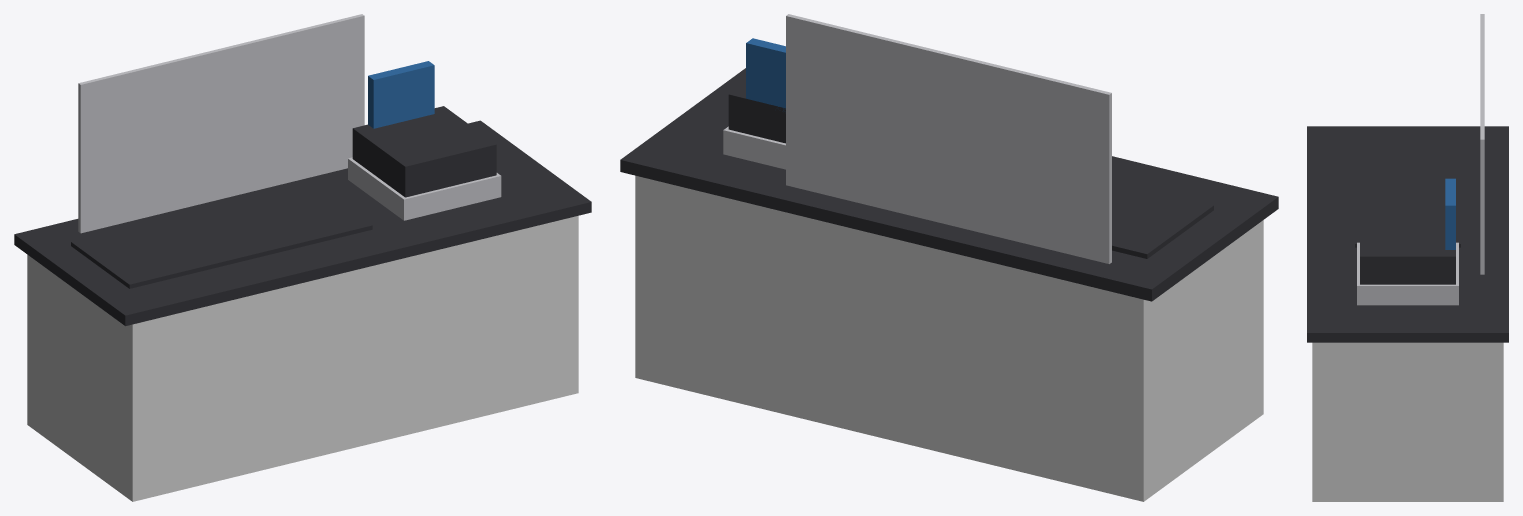
File: interior_quidland_checkout.glb
3 views of the same model, side by side, from view 1: azimuth 30°, elevation 25°; view 2: azimuth 150°, elevation 25°; view 3: azimuth 270°, elevation 25° (orthographic). The views are drawn at different scales.
Visible parts, largest first — view 1: interior_quidland_checkout; view 2: interior_quidland_checkout; view 3: interior_quidland_checkout.
Boxes of the visible parts, x1=… form: interior_quidland_checkout: x1=14, y1=14, x2=591, y2=501; interior_quidland_checkout: x1=620, y1=14, x2=1278, y2=501; interior_quidland_checkout: x1=1307, y1=14, x2=1508, y2=501.
Bounding box in the file's own units: 2.3 × 1.6 × 0.95.
1 material, 1 textured.
